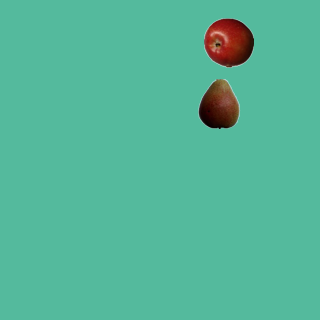Apple Braeburn: (203, 17, 253, 67)
Pear Forelle: (193, 78, 243, 128)
